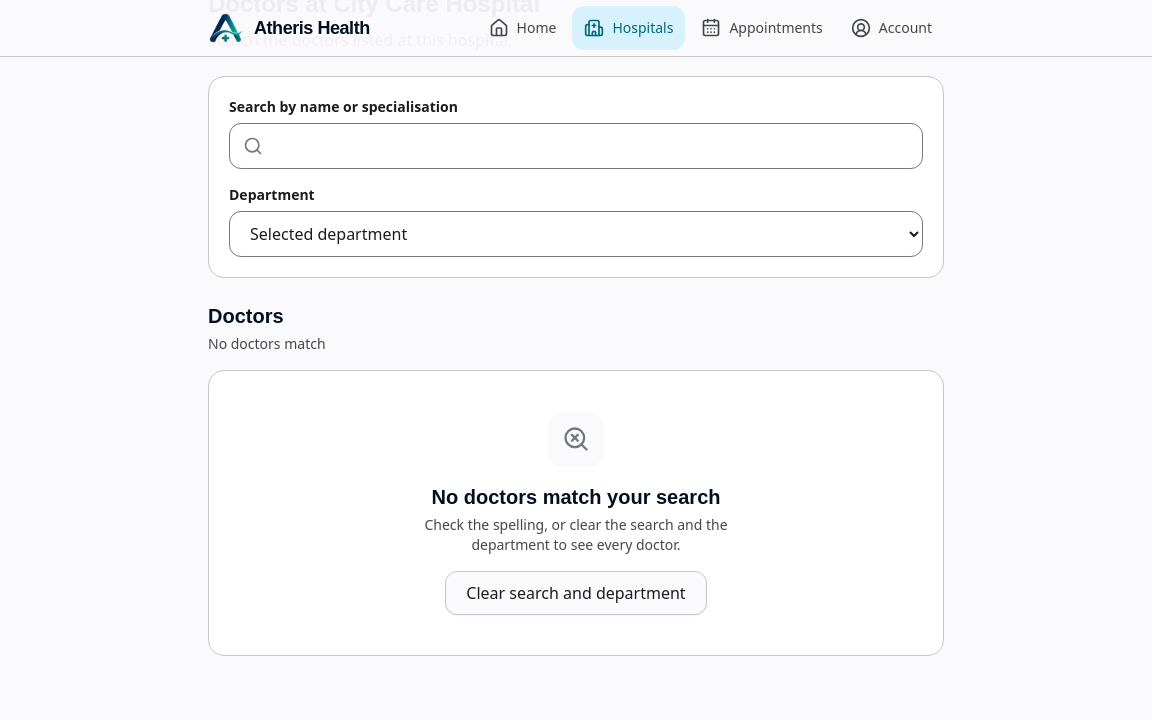
doctor discovery — a hospital’s doctors › department filter › ATTACK — a department in the URL that is words is never sent: it matches no doctor, and can be cleared
The width and height of the screenshot is (1152, 720).
(page scrolled)
Expected: the text "No doctors match your search" is shown, [432,486,720,508]
Expected: the message reads "No doctors match", [208,334,326,353]
Click the button "Clear search and department" at (576, 593), box [445,571,707,615]
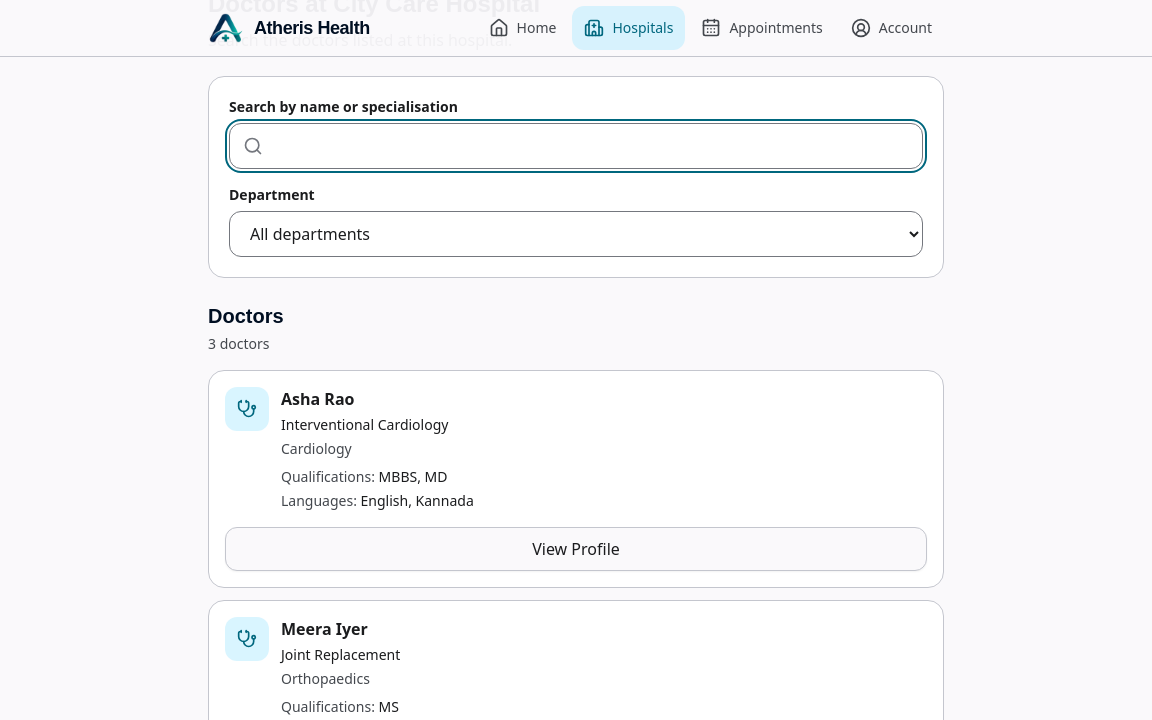
Now the list item "Asha Rao" is shown, box [208,370,944,588]
